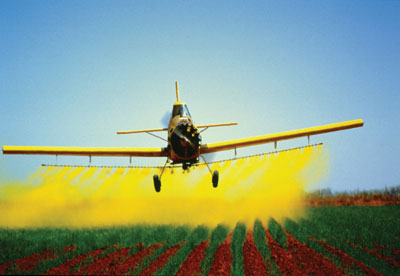Aeronef_de_service: (1, 79, 374, 197)
